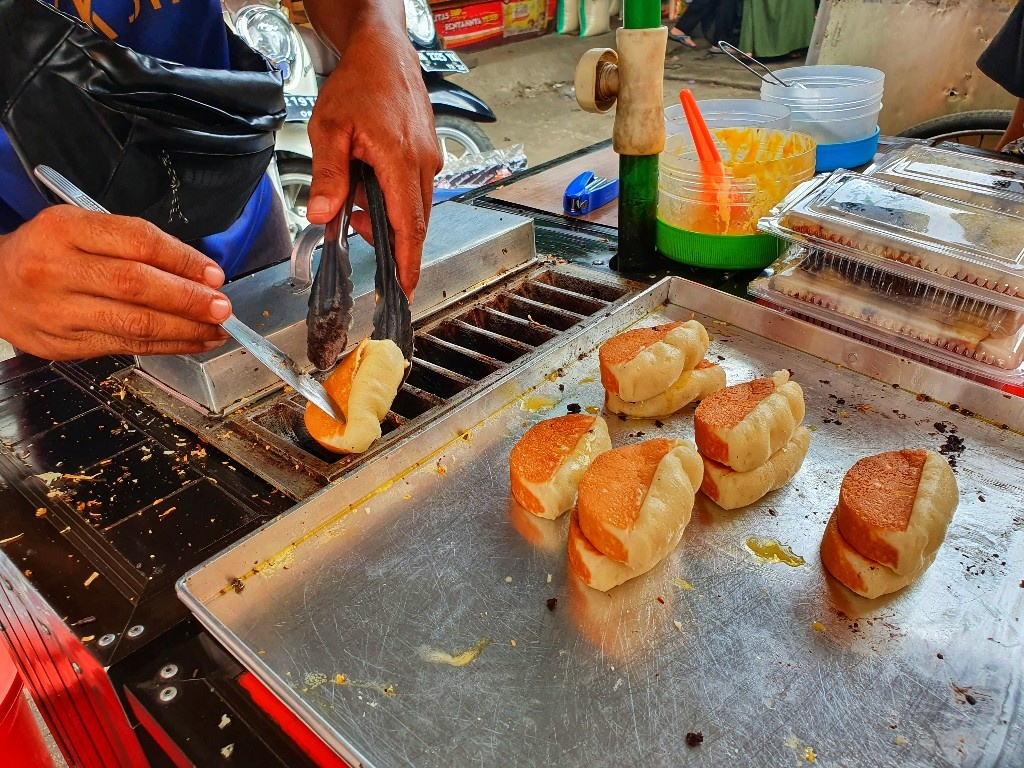pukis: (558, 419, 704, 550), (544, 308, 717, 405), (839, 441, 973, 566), (708, 334, 816, 475)
